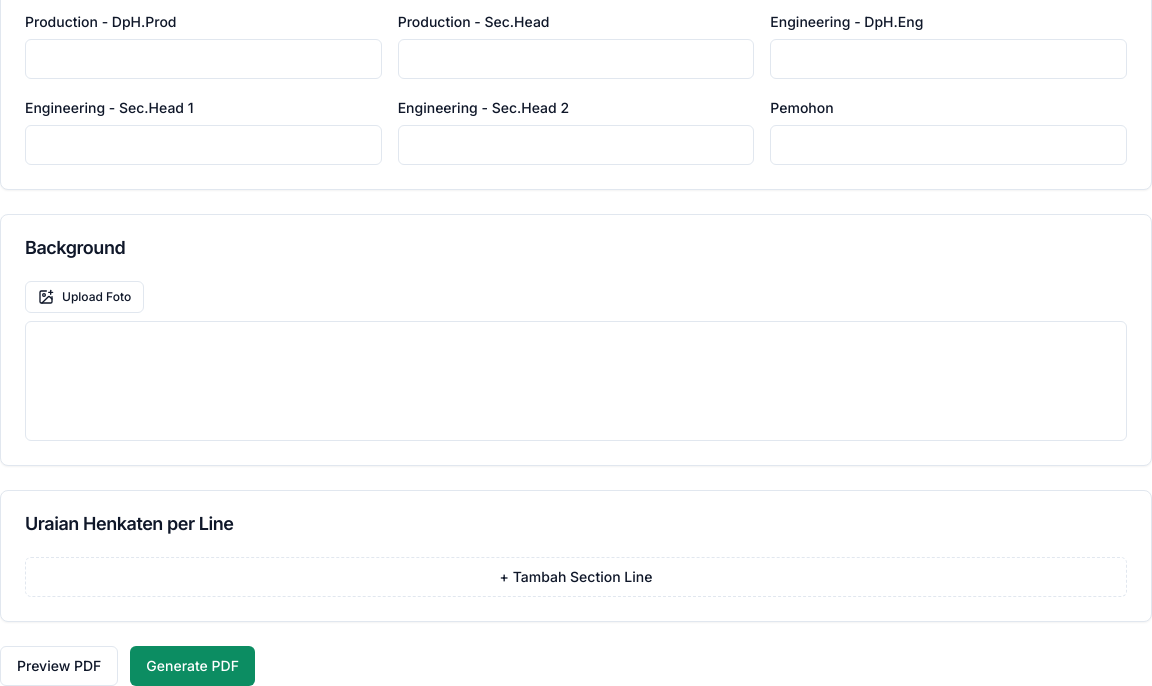
HenkatenForm › shows an error message when Preview PDF request fails, without opening a tab
(page scrolled)
Click the button "Preview PDF". click: [59, 666]
box: [0,646,118,685]
(page scrolled)
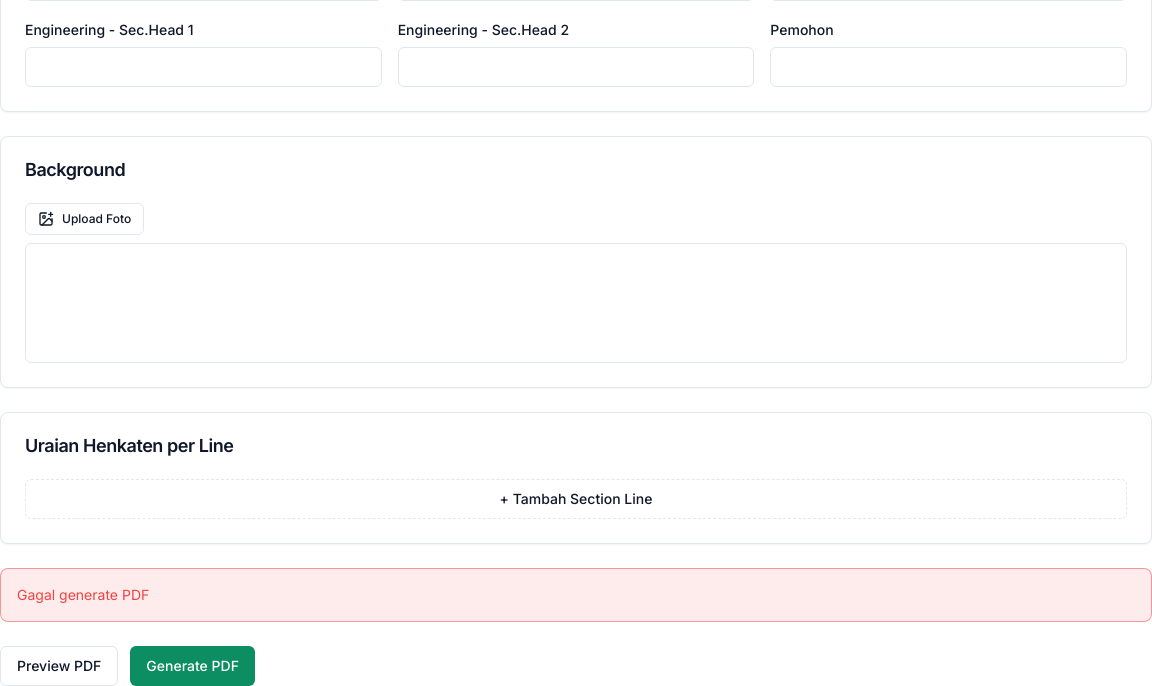
Result: the message reads "Gagal generate PDF" at [17,586,149,603]
